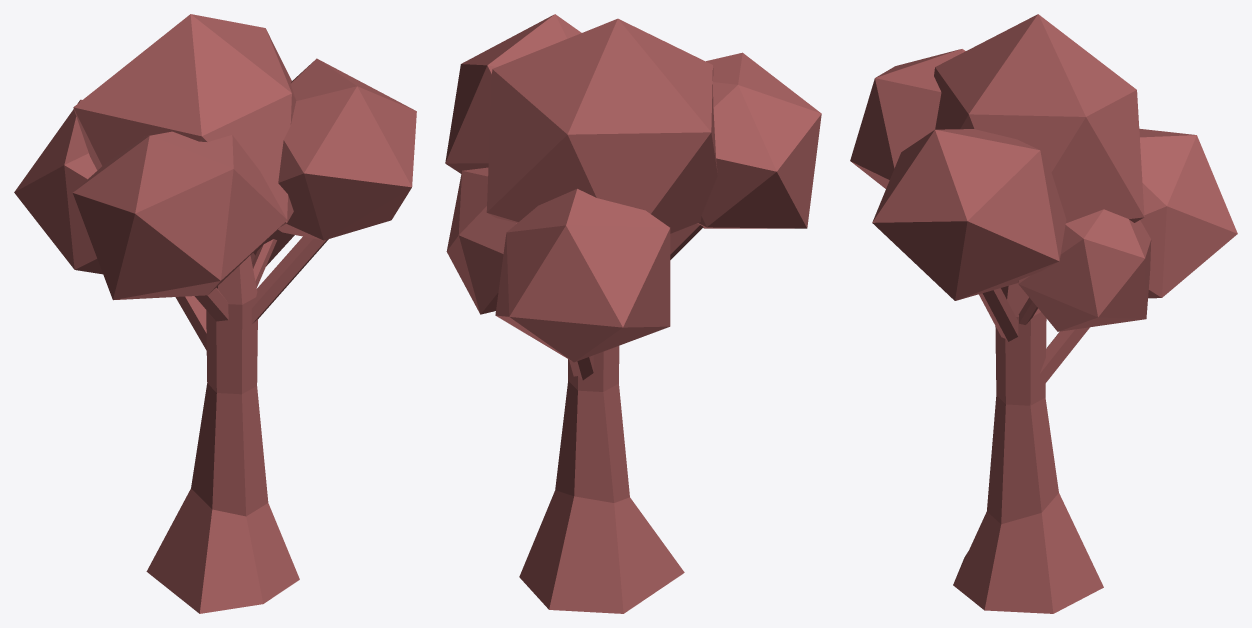
File: Tree 5.fbx
3 views of the same model, side by side, from view 1: azimuth 30°, elevation 25°; view 2: azimuth 150°, elevation 25°; view 3: azimuth 270°, elevation 25° (orthographic). The views are drawn at different scales.
Visible parts, largest first — view 1: LargeTreeLEFT:pasted__sphere_object5, LargeTreeLEFT:pasted__pCylinder1, LargeTreeLEFT:pasted__sphere_object2, LargeTreeLEFT:pasted__sphere_object1, LargeTreeLEFT:pasted__sphere_object3, LargeTreeLEFT:pasted__pCylinder5, LargeTreeLEFT:pasted__pCylinder3, LargeTreeLEFT:pasted__pCylinder2, LargeTreeLEFT:pasted__pCylinder4; view 2: LargeTreeLEFT:pasted__sphere_object2, LargeTreeLEFT:pasted__sphere_object3, LargeTreeLEFT:pasted__pCylinder1, LargeTreeLEFT:pasted__sphere_object5, LargeTreeLEFT:pasted__sphere_object1, LargeTreeLEFT:pasted__sphere_object4, LargeTreeLEFT:pasted__pCylinder2; view 3: LargeTreeLEFT:pasted__sphere_object2, LargeTreeLEFT:pasted__sphere_object1, LargeTreeLEFT:pasted__pCylinder1, LargeTreeLEFT:pasted__sphere_object4, LargeTreeLEFT:pasted__sphere_object3, LargeTreeLEFT:pasted__sphere_object5, LargeTreeLEFT:pasted__pCylinder5, LargeTreeLEFT:pasted__pCylinder3.
Part boxes in pixels (x1=…): LargeTreeLEFT:pasted__sphere_object5: x1=73, y1=131, x2=287, y2=300; LargeTreeLEFT:pasted__pCylinder1: x1=146, y1=255, x2=299, y2=613; LargeTreeLEFT:pasted__sphere_object2: x1=73, y1=14, x2=296, y2=226; LargeTreeLEFT:pasted__sphere_object1: x1=278, y1=58, x2=416, y2=240; LargeTreeLEFT:pasted__sphere_object3: x1=14, y1=99, x2=102, y2=274; LargeTreeLEFT:pasted__pCylinder5: x1=251, y1=236, x2=328, y2=324; LargeTreeLEFT:pasted__pCylinder3: x1=175, y1=296, x2=206, y2=350; LargeTreeLEFT:pasted__pCylinder2: x1=194, y1=287, x2=228, y2=321; LargeTreeLEFT:pasted__pCylinder4: x1=252, y1=239, x2=276, y2=287; LargeTreeLEFT:pasted__sphere_object2: x1=486, y1=18, x2=717, y2=233; LargeTreeLEFT:pasted__sphere_object3: x1=495, y1=188, x2=670, y2=362; LargeTreeLEFT:pasted__pCylinder1: x1=519, y1=346, x2=684, y2=613; LargeTreeLEFT:pasted__sphere_object5: x1=697, y1=52, x2=821, y2=228; LargeTreeLEFT:pasted__sphere_object1: x1=445, y1=14, x2=581, y2=173; LargeTreeLEFT:pasted__sphere_object4: x1=446, y1=167, x2=516, y2=314; LargeTreeLEFT:pasted__pCylinder2: x1=670, y1=223, x2=703, y2=259; LargeTreeLEFT:pasted__sphere_object2: x1=934, y1=14, x2=1144, y2=223; LargeTreeLEFT:pasted__sphere_object1: x1=872, y1=129, x2=1066, y2=300; LargeTreeLEFT:pasted__pCylinder1: x1=953, y1=283, x2=1103, y2=613; LargeTreeLEFT:pasted__sphere_object4: x1=1018, y1=209, x2=1151, y2=331; LargeTreeLEFT:pasted__sphere_object3: x1=1139, y1=128, x2=1237, y2=298; LargeTreeLEFT:pasted__sphere_object5: x1=850, y1=49, x2=965, y2=188; LargeTreeLEFT:pasted__pCylinder5: x1=979, y1=288, x2=1018, y2=341; LargeTreeLEFT:pasted__pCylinder3: x1=1039, y1=327, x2=1089, y2=390.
Size of the model in its own units: 65.69 by 108 by 68.4.
